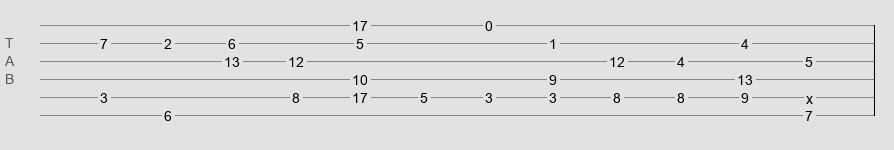0: (485, 18, 493, 28)
1: (549, 36, 557, 46)
10: (352, 72, 368, 82)
12: (288, 54, 304, 64), (609, 54, 625, 64)
13: (224, 54, 240, 64), (737, 72, 753, 82)
17: (352, 90, 368, 100), (352, 18, 368, 28)
2: (164, 36, 172, 46)
3: (100, 90, 108, 100), (485, 90, 493, 100), (549, 90, 557, 100)
4: (677, 54, 685, 64), (741, 36, 749, 46)
5: (356, 36, 364, 46), (420, 90, 428, 100), (805, 54, 813, 64)
6: (164, 108, 172, 118), (228, 36, 236, 46)
7: (100, 36, 108, 46), (805, 108, 813, 118)
8: (292, 90, 300, 100), (613, 90, 621, 100), (677, 90, 685, 100)
9: (549, 72, 557, 82), (741, 90, 749, 100)
x: (806, 91, 813, 99)
